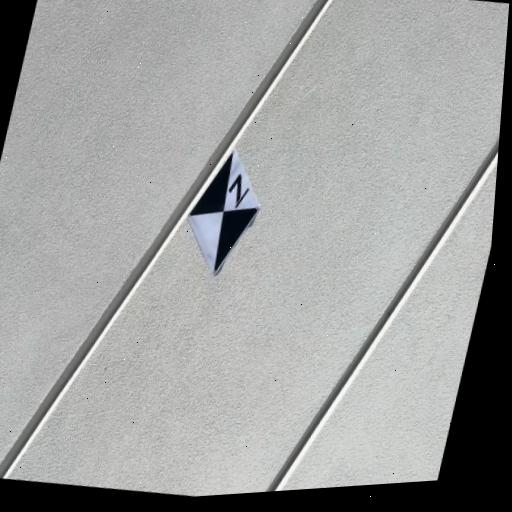target7: (185, 148, 260, 276)
